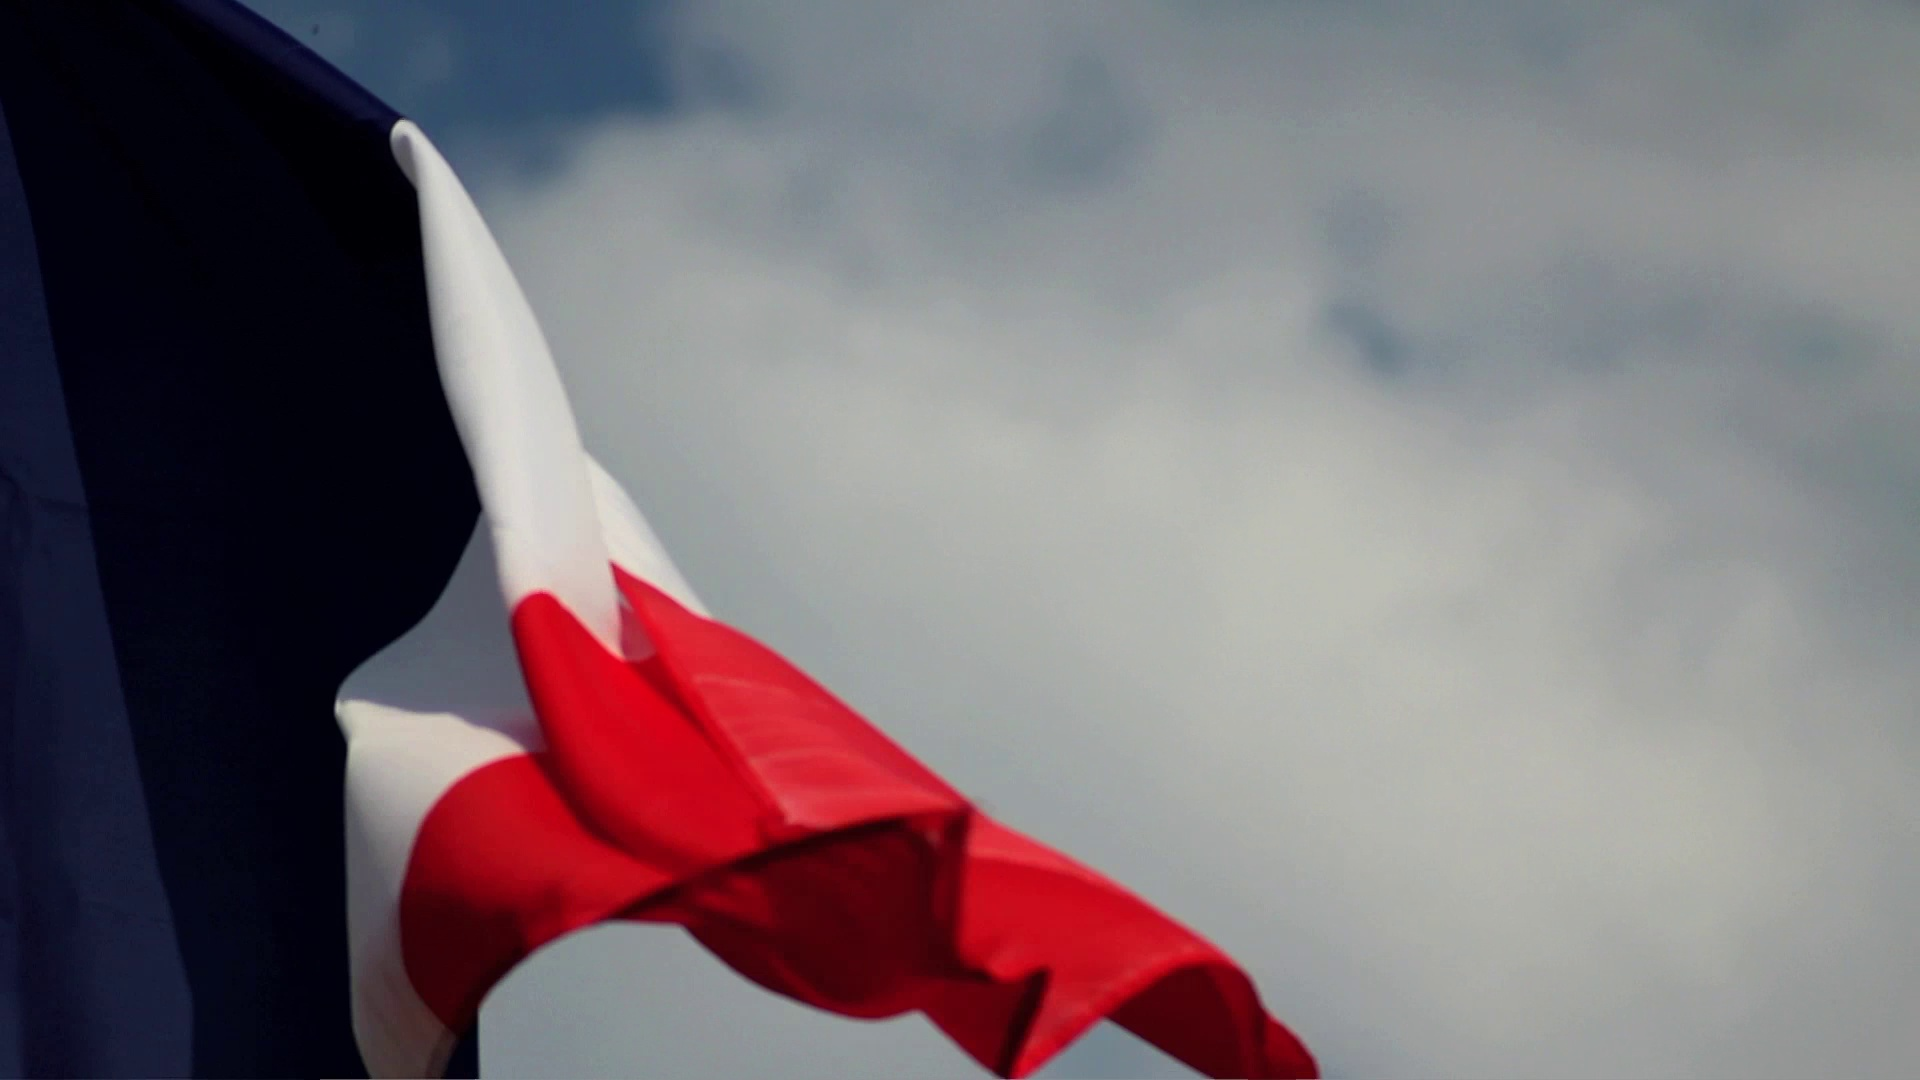French Flag: (1, 1, 1337, 1080)
